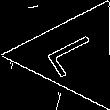L_NE: (40, 29, 107, 81)
